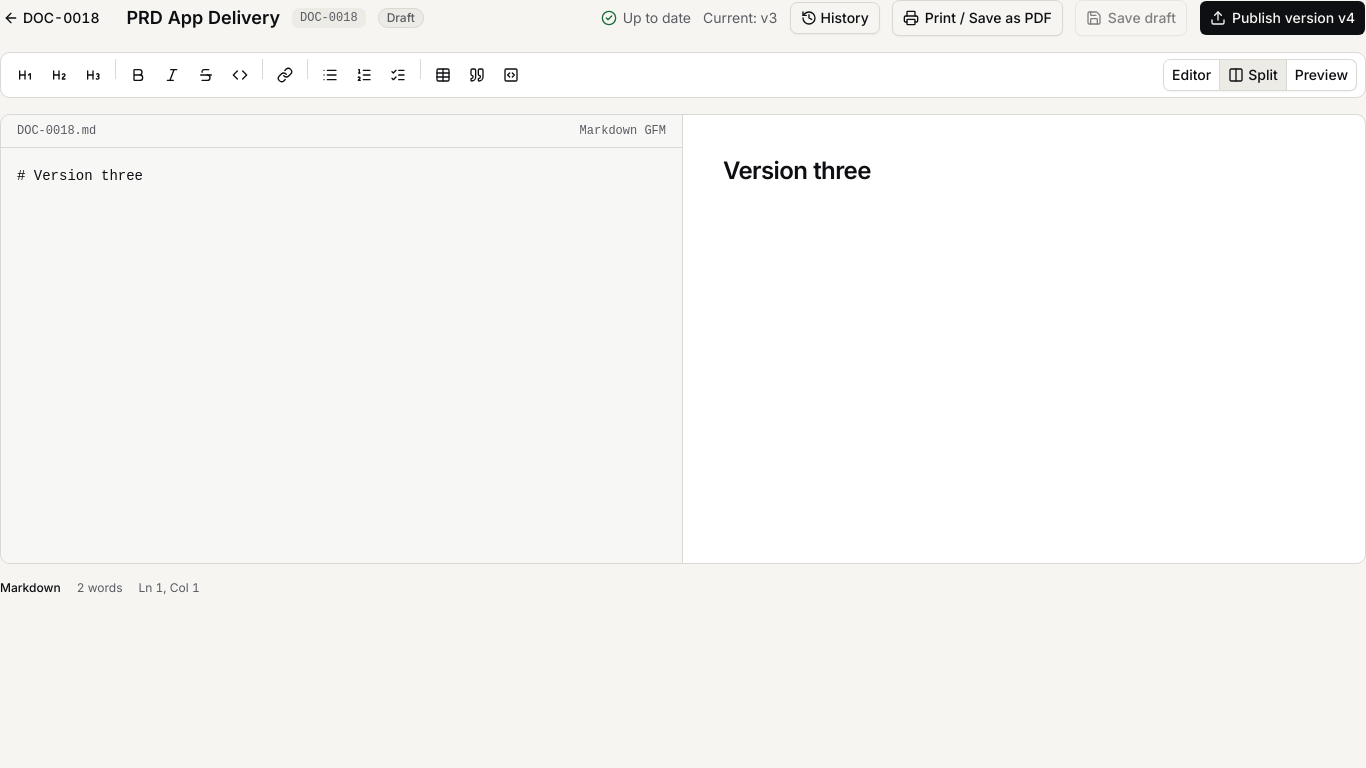
DocumentEditor publish › publishes version N+1 with the change note and the latest content, then shows it as current
The image size is (1366, 768).
Replace the text in the text box named "Markdown source" with "# Four" at point(342, 356), box [1,148,682,563]
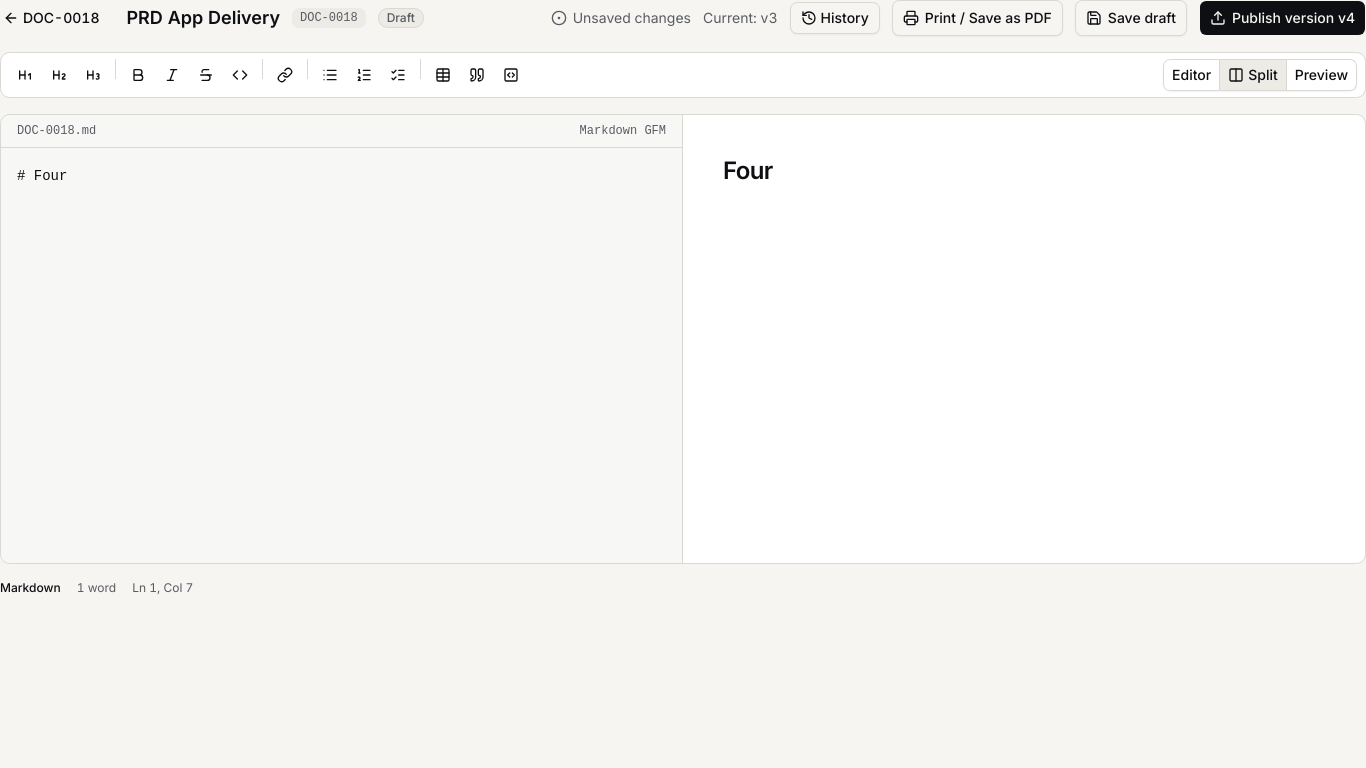
Click the button "Publish version v4" at point(1282, 18), box [1199,0,1365,36]
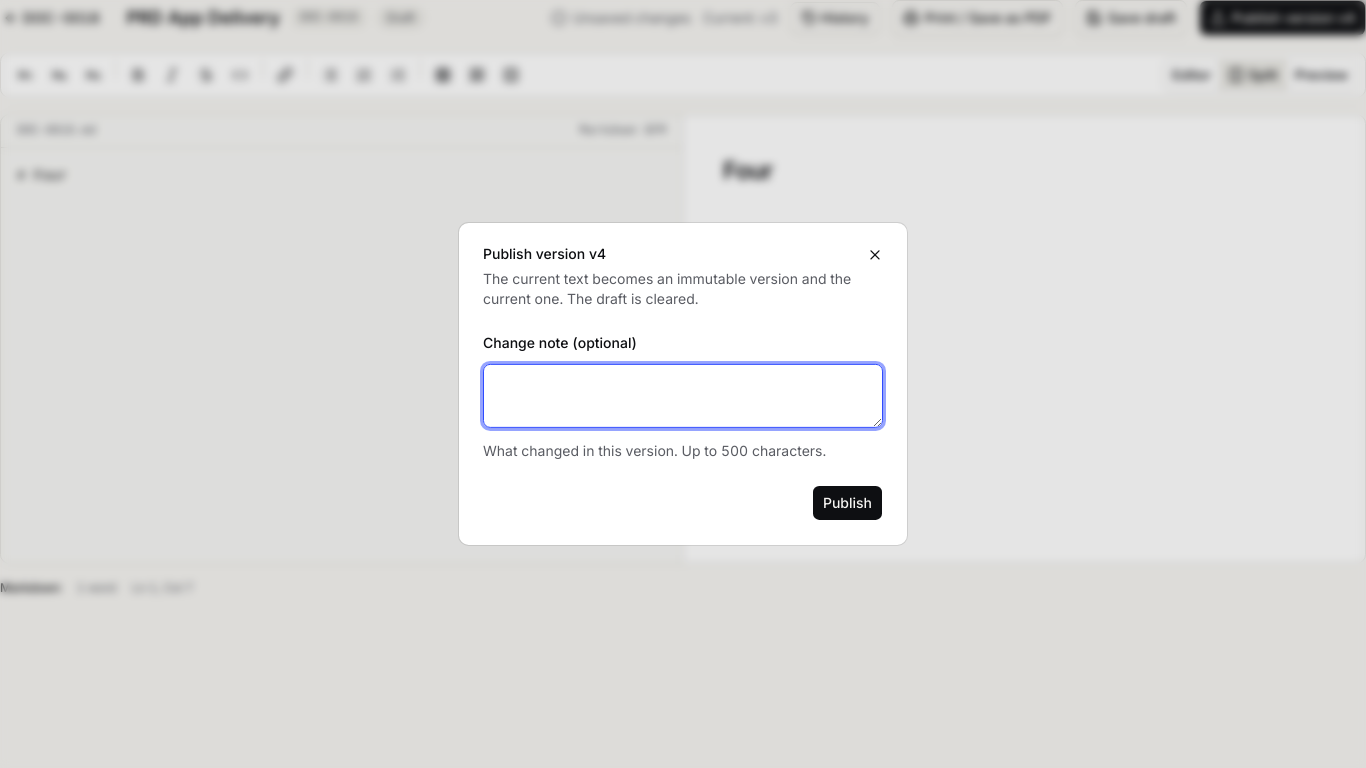
Type "Scope updated" into the text box labelled "Change note (optional)" at point(683, 396), box [483,364,883,428]
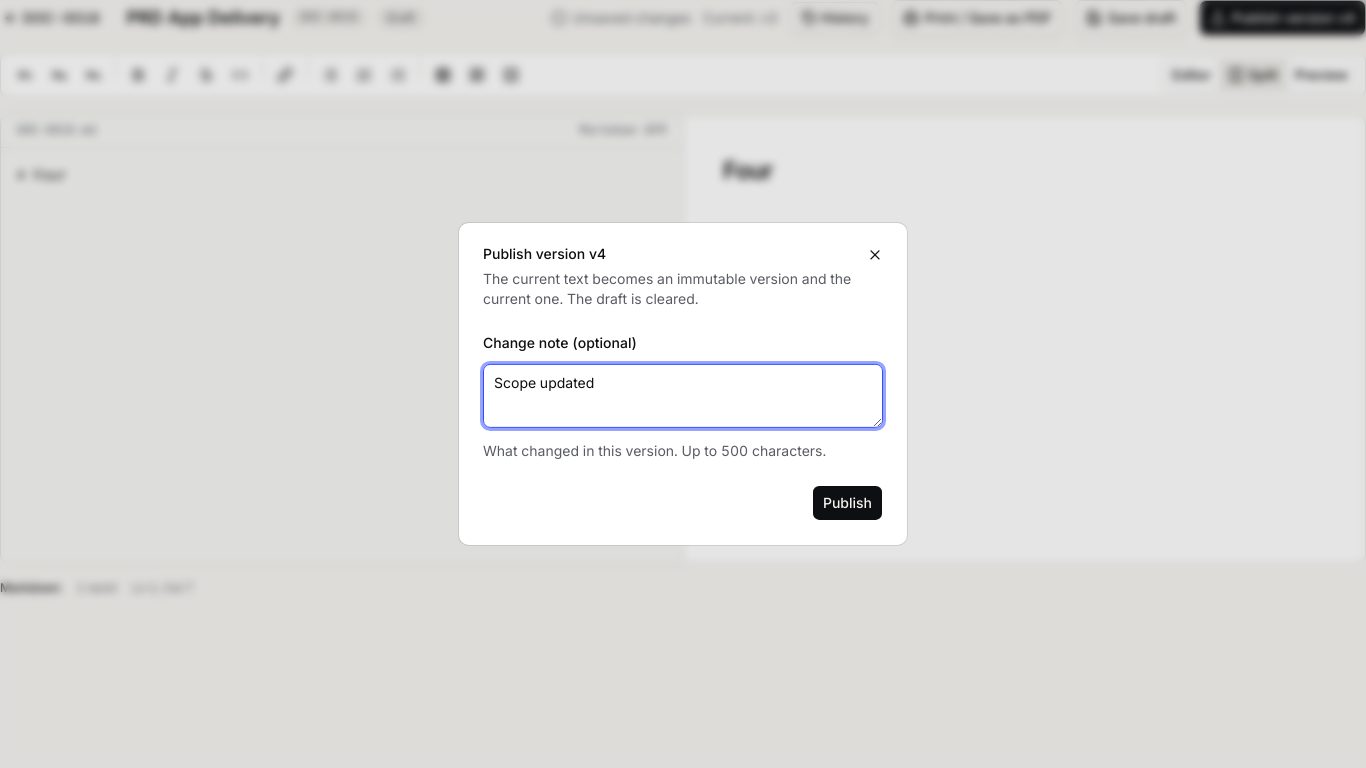
Click the button "Publish" at point(847, 503), box [812,485,883,521]
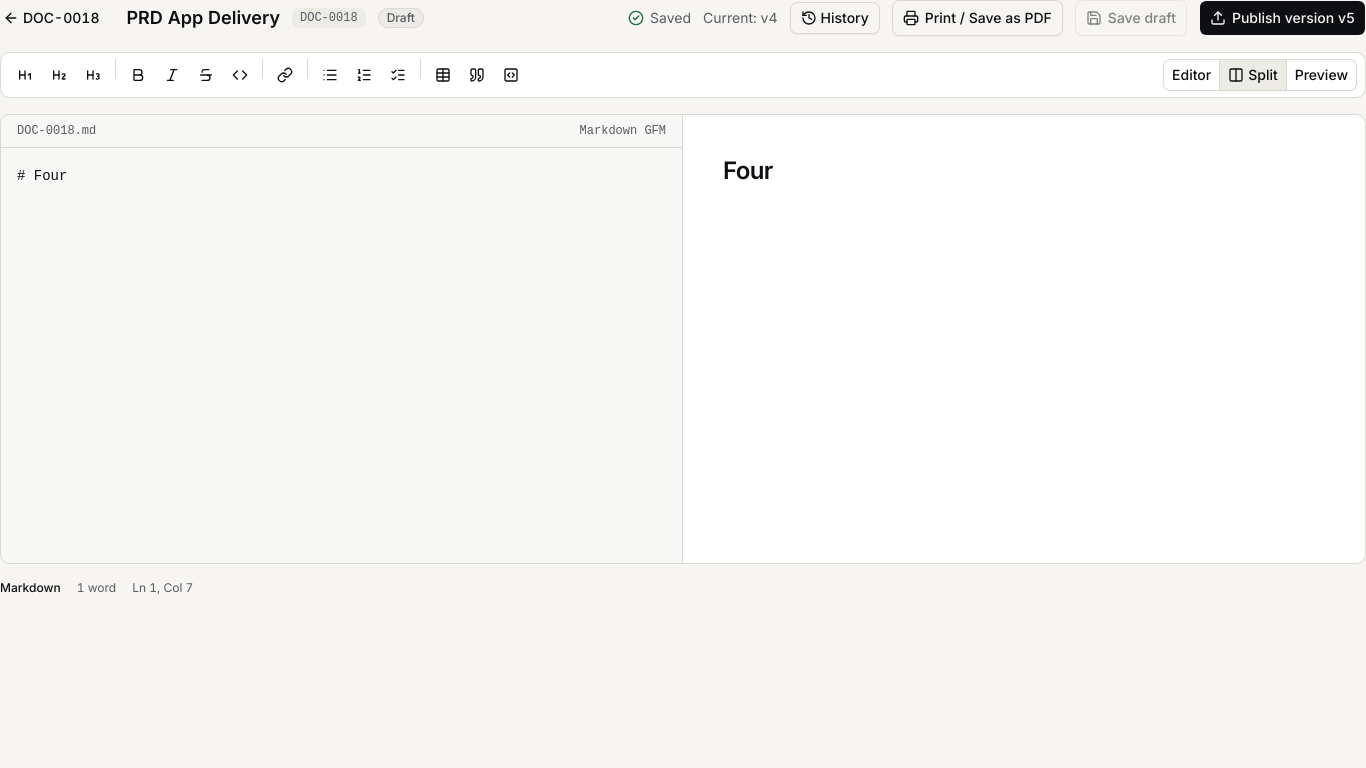
Result: the text "Current: v4" is shown at [703,8,778,28]
Result: the button "Publish version v5" is shown at [1199,0,1365,36]
